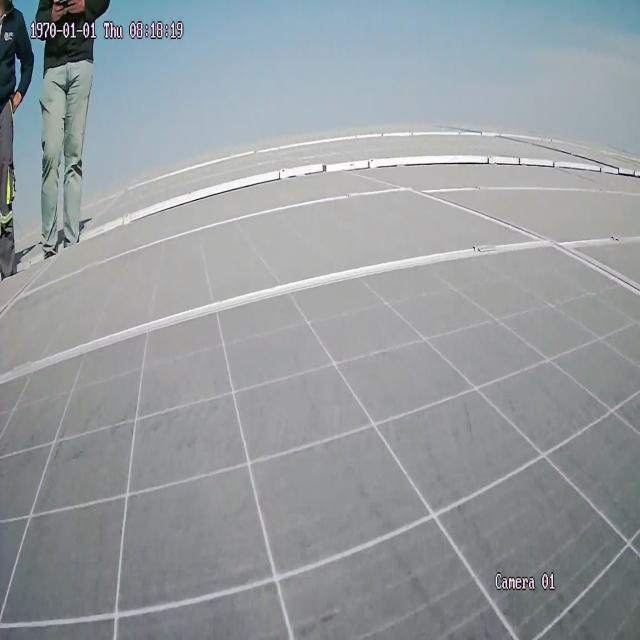interior panel: (3, 231, 639, 394)
